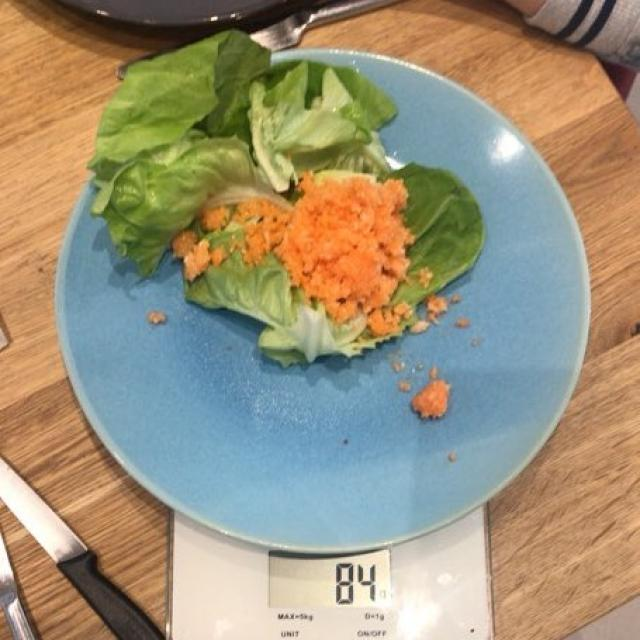carrot: (169, 171, 448, 417)
salad: (98, 37, 478, 366)
